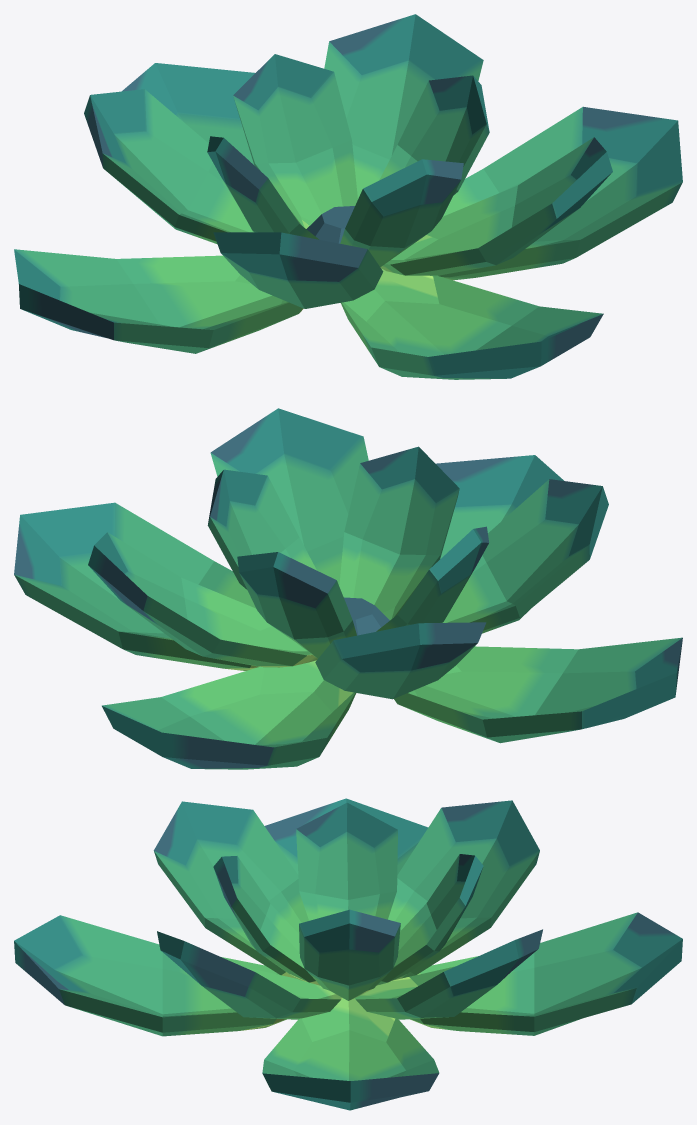
File: Flower_4.fbx
3 views of the same model, one above another, from view 1: azimuth 30°, elevation 25°; view 2: azimuth 150°, elevation 25°; view 3: azimuth 270°, elevation 25° (orthographic). The views are drawn at different scales.
Visible parts, largest first — view 1: Flower_4; view 2: Flower_4; view 3: Flower_4.
Boxes of the visible parts, x1,y1,x2,y2 form: Flower_4: (14, 14, 682, 379); Flower_4: (14, 408, 682, 769); Flower_4: (14, 798, 682, 1110).
Size of the model in its own units: 36.92 by 10.46 by 36.92.
